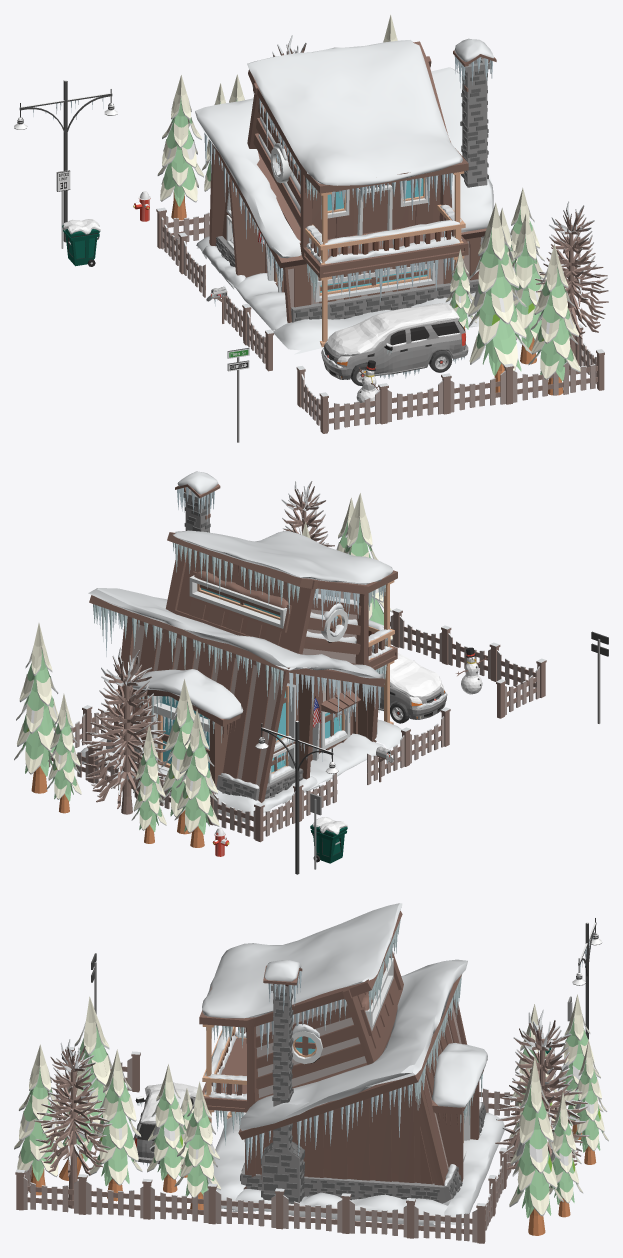
Rendered from casacompleta_lev5.glb.
The picture shows the model from 3 angles, top to bottom: view 1: azimuth 30°, elevation 25°; view 2: azimuth 150°, elevation 25°; view 3: azimuth 270°, elevation 25°; orthographic projection. The views are drawn at different scales.
Parts seen in each view (by area): view 1: Cylinder.008, Plane.009, Cube.005, Cylinder_Cylinder.009, Cylinder.002, Cylinder.003, Plane, Plane.002; view 2: Cylinder.008, Plane.009, Cube.005, Cylinder_Cylinder.009, Cylinder.002, Cylinder.003, Plane.002, Plane; view 3: Cylinder.008, Plane.009, Cube.005, Cylinder_Cylinder.009, Cylinder.002.
Part boxes in pixels (bbox=[...]): Cylinder.008: bbox=[195, 38, 496, 354]; Plane.009: bbox=[157, 14, 608, 395]; Cube.005: bbox=[156, 207, 604, 433]; Cylinder_Cylinder.009: bbox=[321, 303, 468, 385]; Cylinder.002: bbox=[14, 80, 117, 242]; Cylinder.003: bbox=[62, 219, 100, 266]; Plane: bbox=[227, 348, 249, 442]; Plane.002: bbox=[356, 360, 378, 407]; Cylinder.008: bbox=[80, 471, 411, 822]; Plane.009: bbox=[14, 481, 392, 847]; Cube.005: bbox=[49, 608, 546, 842]; Cylinder_Cylinder.009: bbox=[378, 653, 447, 723]; Cylinder.002: bbox=[255, 720, 338, 874]; Cylinder.003: bbox=[310, 817, 347, 863]; Plane.002: bbox=[456, 647, 487, 694]; Plane: bbox=[591, 631, 608, 723]; Cylinder.008: bbox=[199, 903, 505, 1226]; Plane.009: bbox=[14, 994, 608, 1235]; Cube.005: bbox=[15, 1046, 520, 1243]; Cylinder_Cylinder.009: bbox=[133, 1082, 197, 1166]; Cylinder.002: bbox=[572, 917, 602, 1039].
Size of the model in its own units: 75.33 by 45.34 by 95.21.
Materials: 2 (2 with a texture image).
